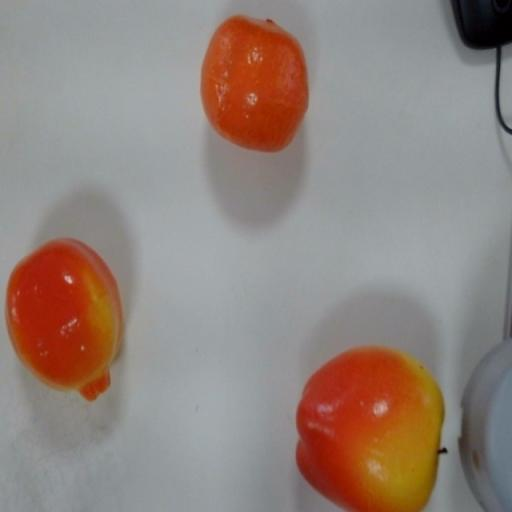Ripe: (294, 340, 452, 512), (4, 236, 126, 405), (197, 11, 312, 154)
